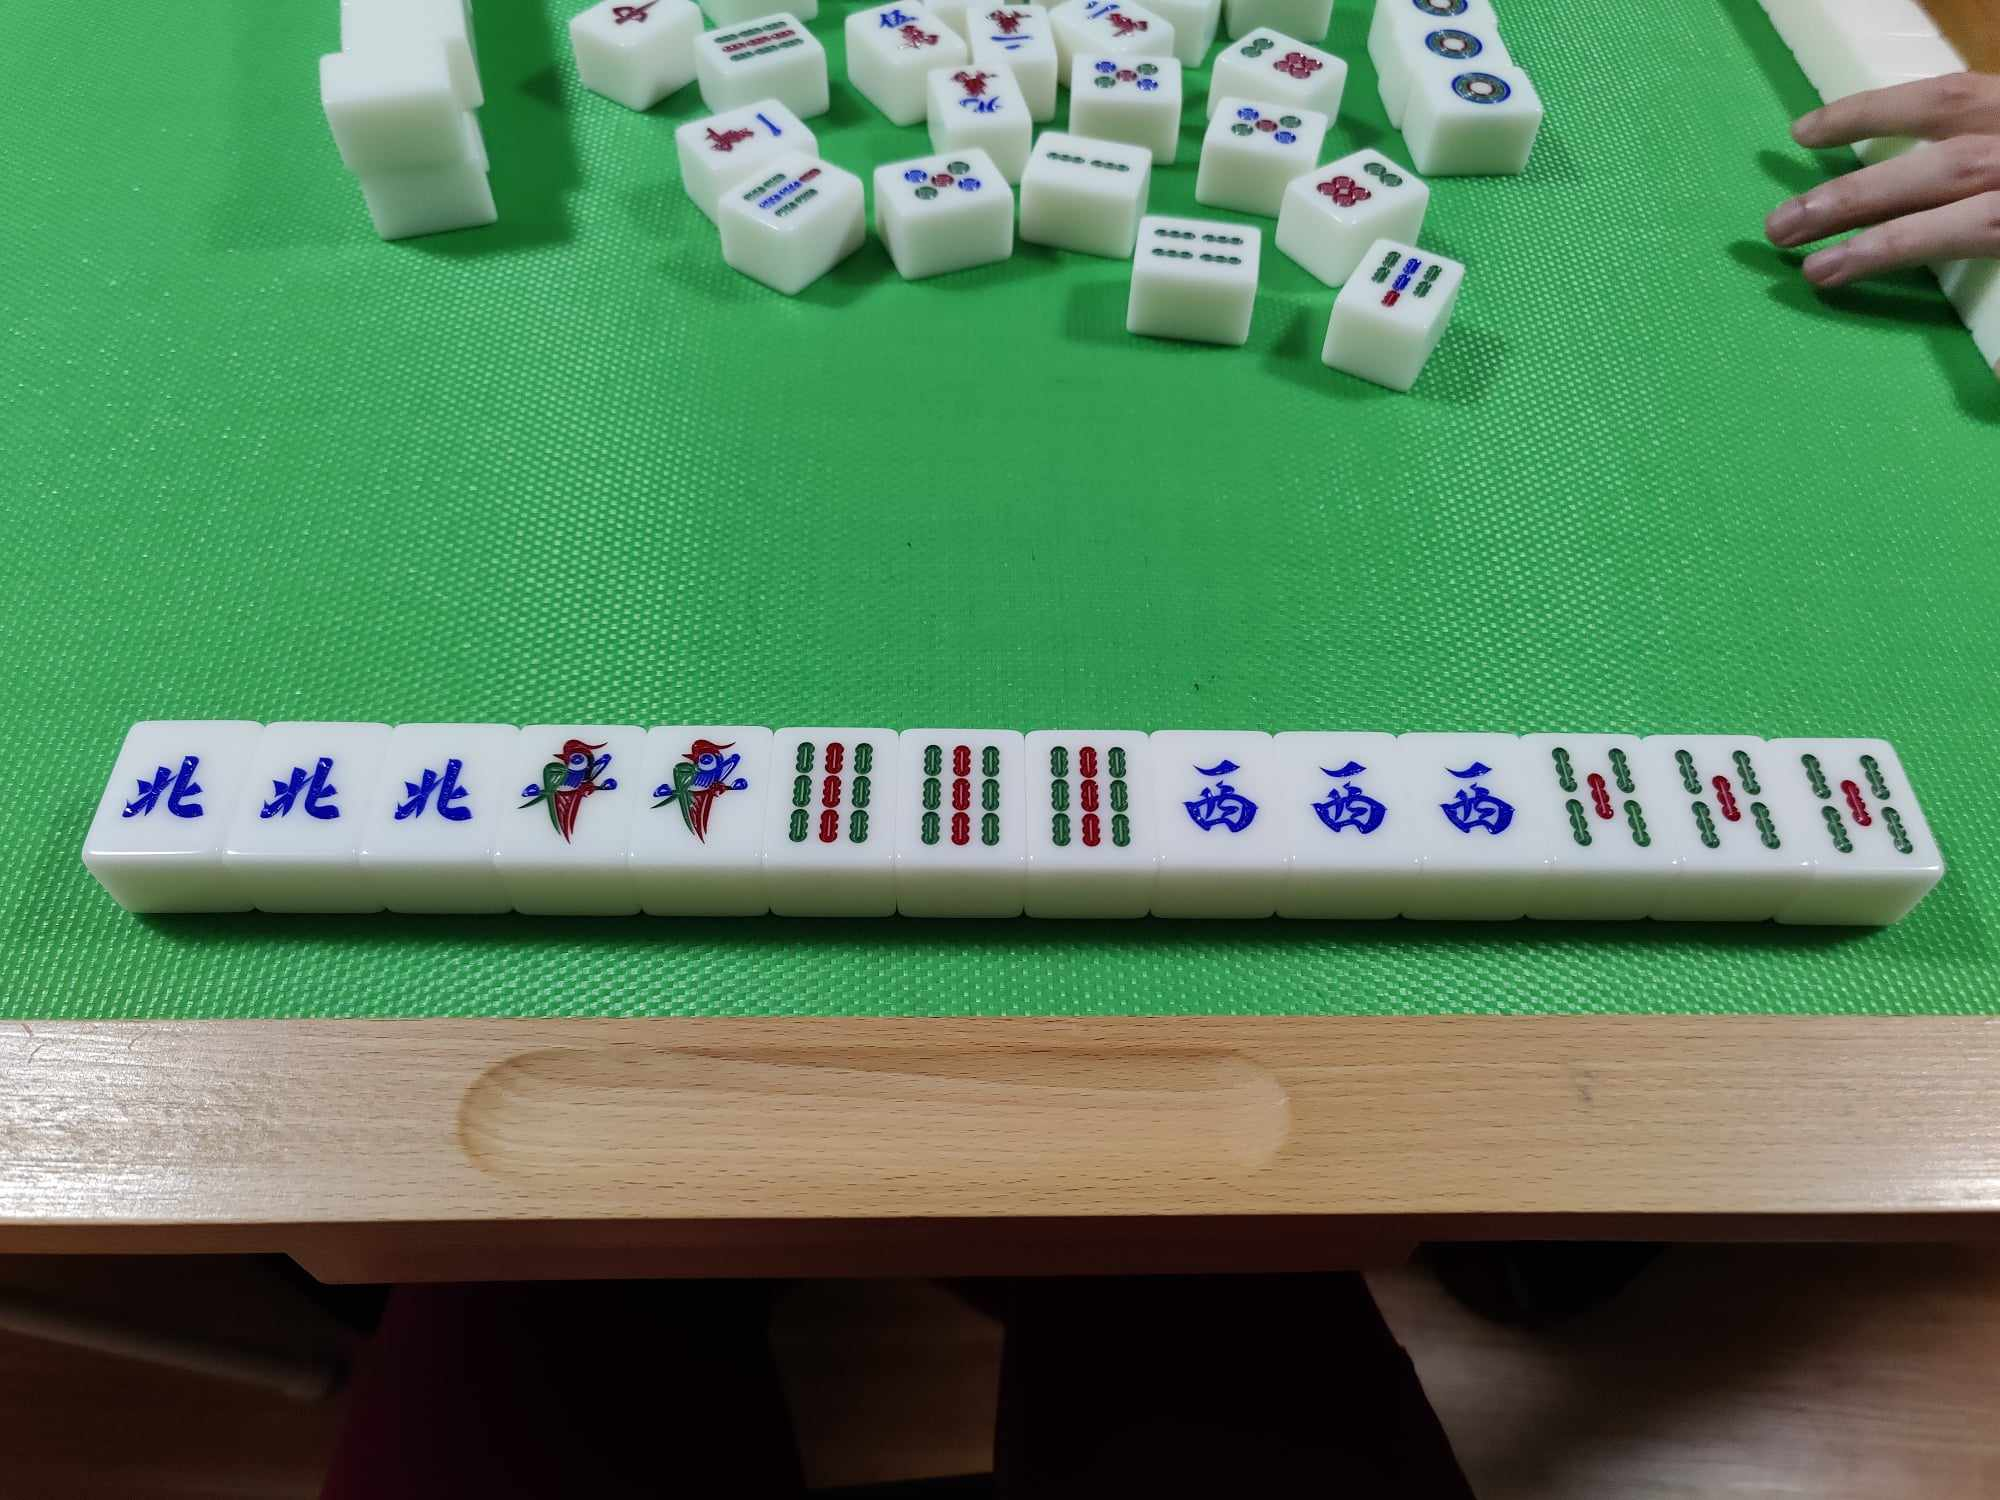bamboo-five: (1791, 739, 1923, 860), (1669, 736, 1783, 862), (1548, 744, 1660, 859)
bamboo-nine: (906, 730, 1016, 856), (1031, 736, 1142, 856), (780, 733, 883, 852)
bamboo-one: (647, 730, 759, 849), (521, 730, 616, 846)
honor-north_wind: (121, 726, 213, 845), (249, 744, 350, 838), (384, 742, 474, 838)
honor-west_wind: (1413, 736, 1532, 857), (1283, 734, 1395, 852), (1164, 733, 1268, 852)
